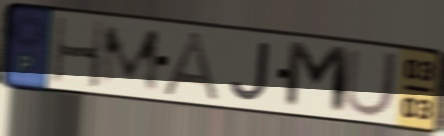A: (158, 29, 226, 104)
H: (51, 15, 106, 91)
J: (227, 39, 273, 103)
M: (281, 38, 353, 118), (98, 24, 163, 94)
U: (342, 46, 402, 120)
